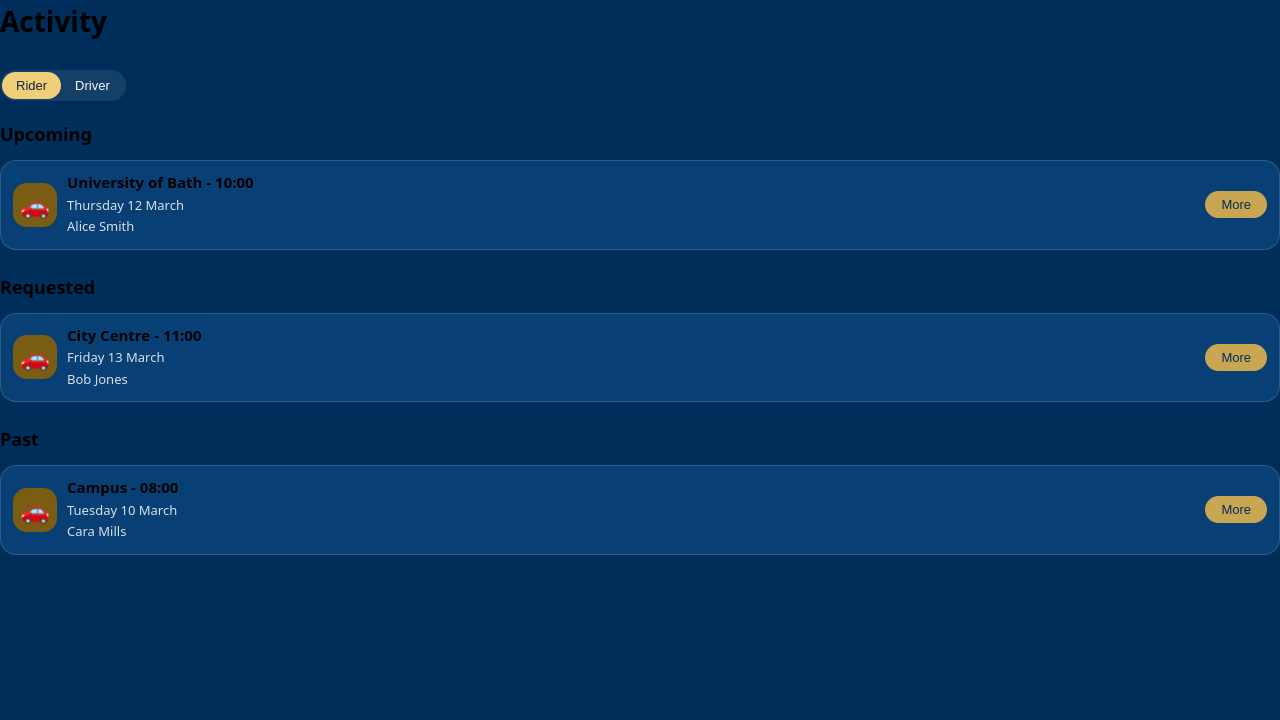
Scenario: ActivityPage › shows a submission error when rating fails for another reason
Click the button "More" in the row of "Tuesday 10 March": click(1236, 510) [1205,496,1267,523]
(page scrolled)
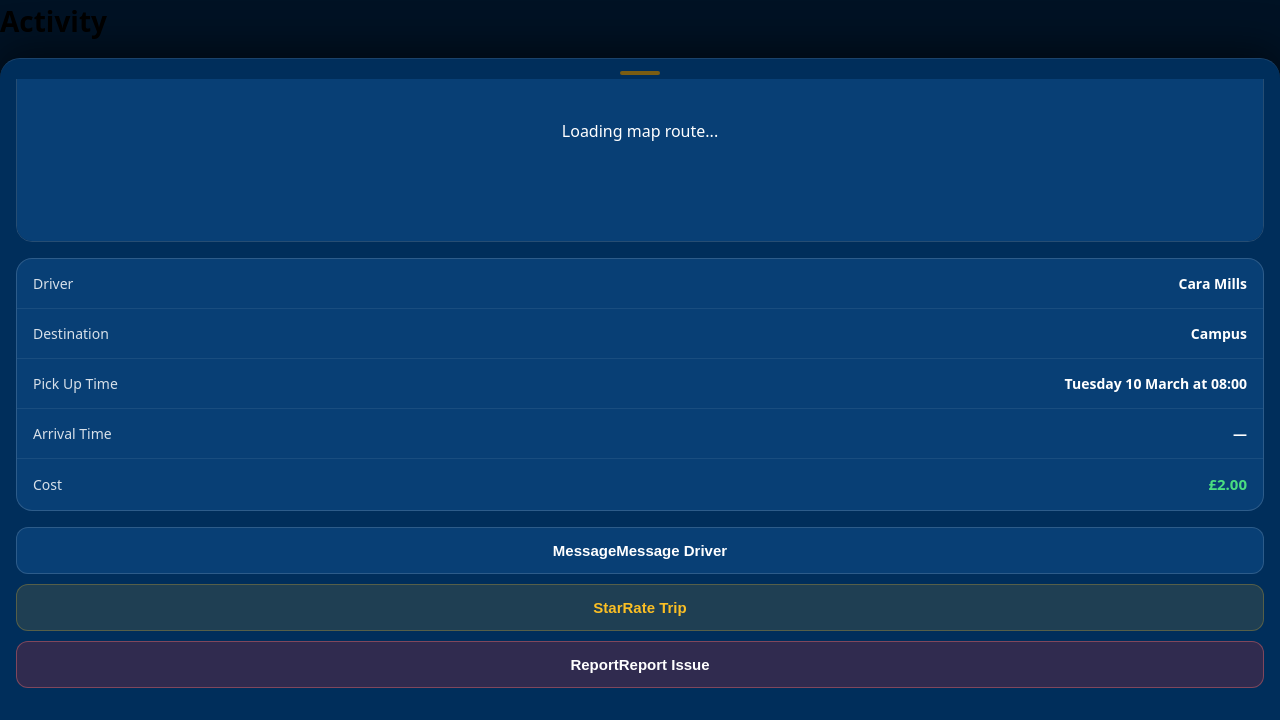
Click the button "Rate Trip": click(640, 607) [16,584,1264,631]
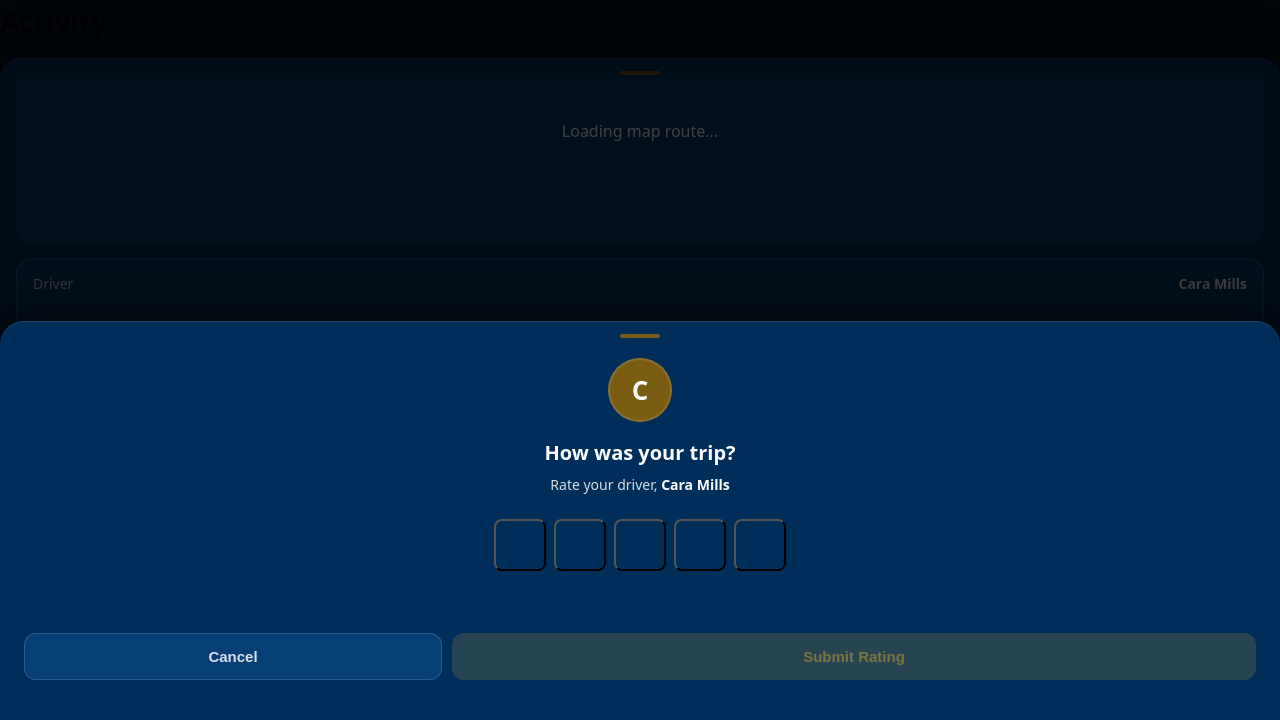
Click the button named "star": click(760, 545) [734,519,786,571]
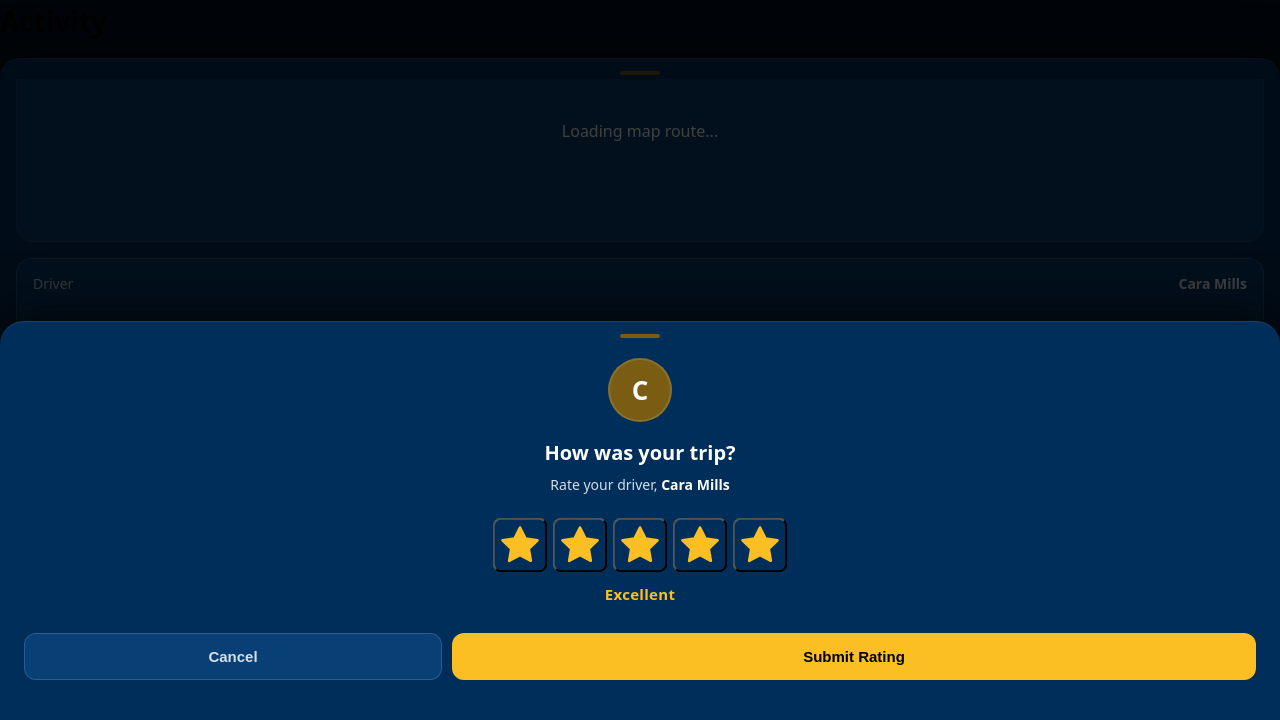
Click the button "Submit Rating": click(854, 656) [452,633,1256,680]
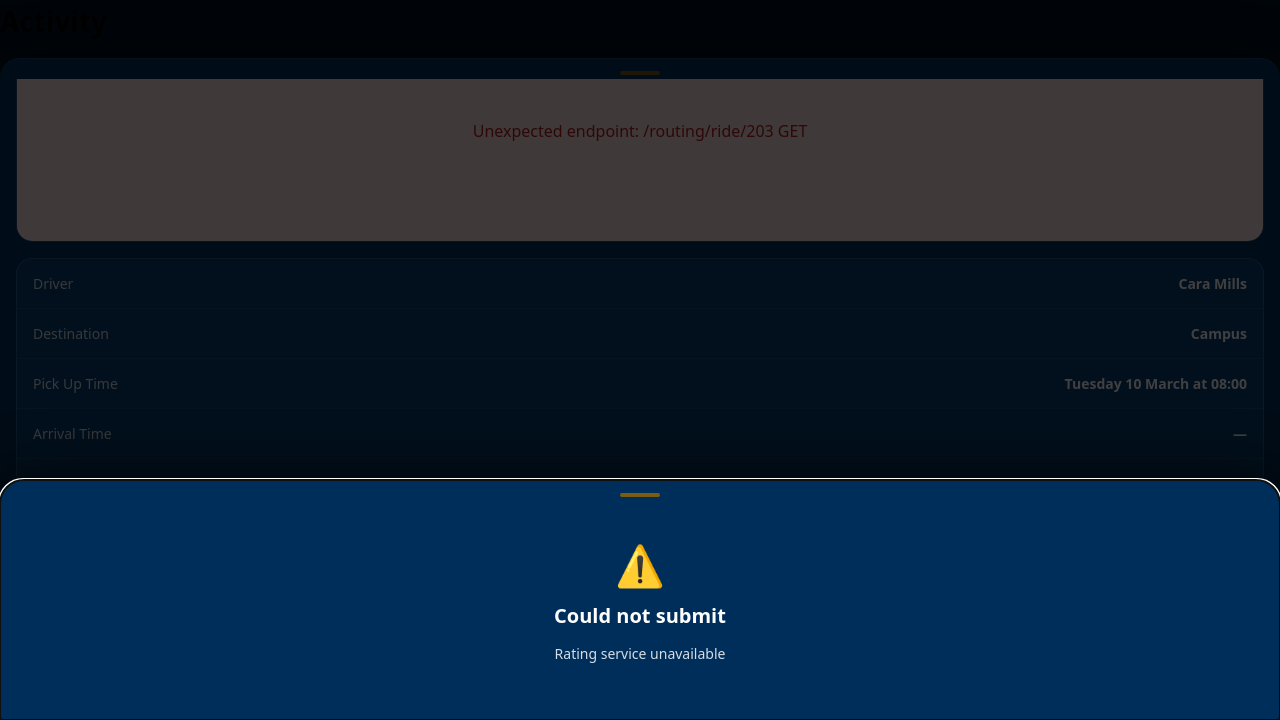
Now the text "Rating service unavailable" is shown, box [555,643,725,664]
